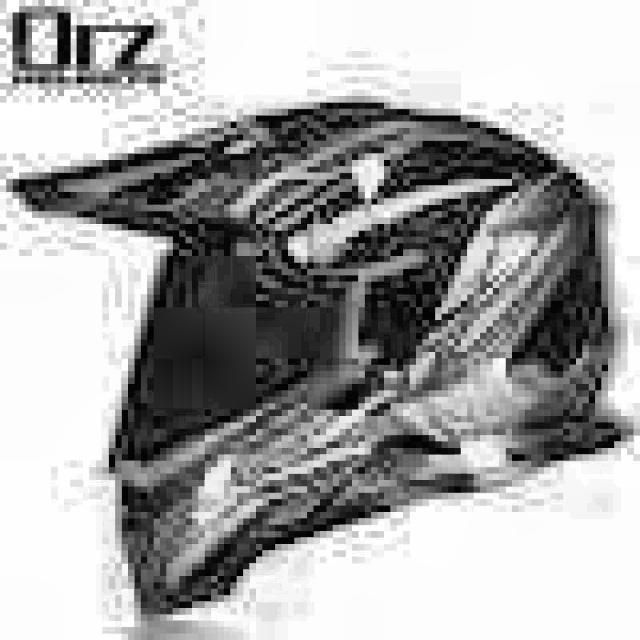Helmet: (0, 90, 636, 632)
